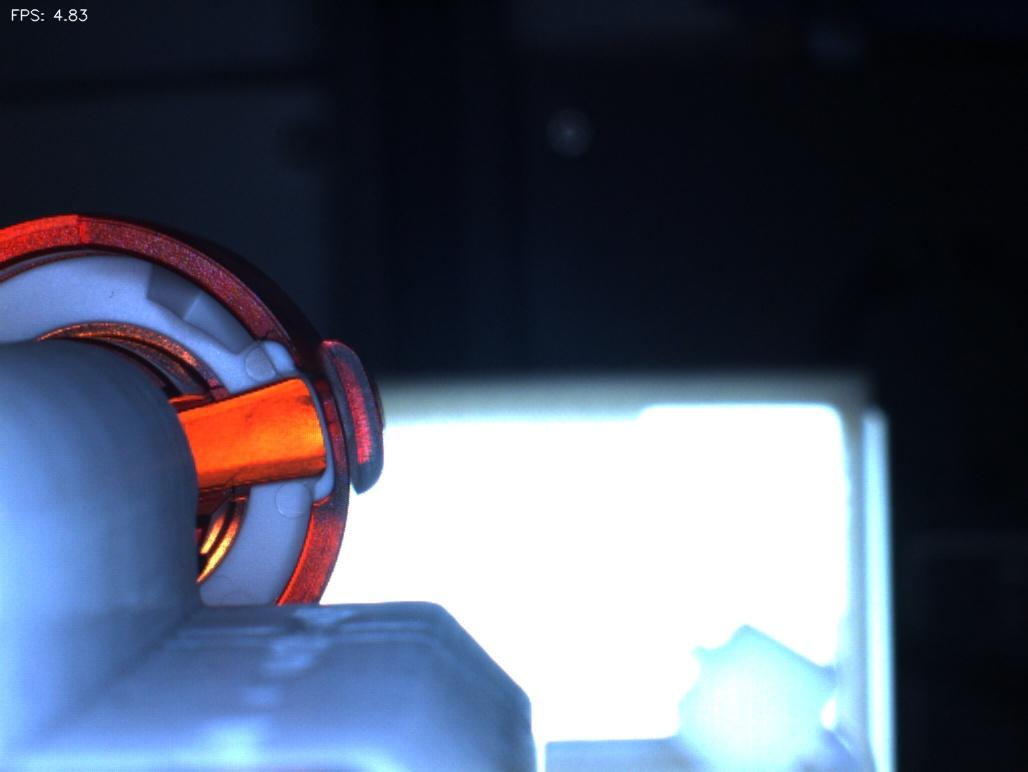Retassure: (223, 391, 328, 461)
